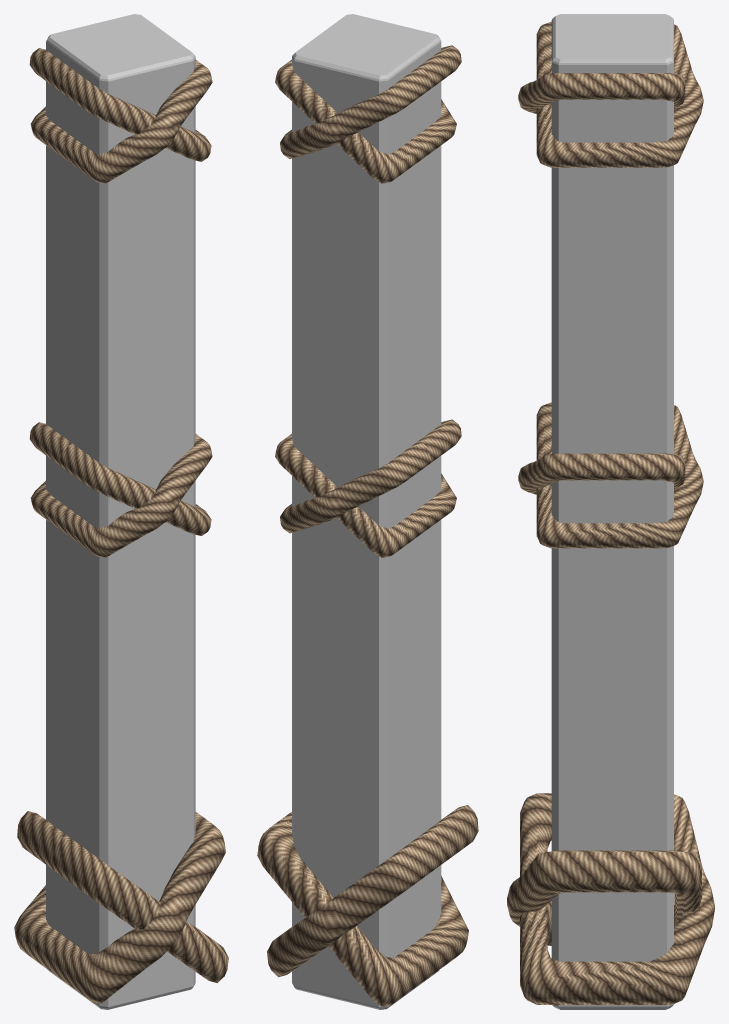
Rendered from Fence_07.fbx.
The picture shows the model from 3 angles, left to right: view 1: azimuth 30°, elevation 25°; view 2: azimuth 150°, elevation 25°; view 3: azimuth 270°, elevation 25°; orthographic projection.
Parts seen in each view (by area): view 1: Fence_07; view 2: Fence_07; view 3: Fence_07.
Boxes of the visible parts, bbox=[...] form: Fence_07: bbox=[14, 14, 228, 1009]; Fence_07: bbox=[257, 14, 478, 1009]; Fence_07: bbox=[507, 14, 714, 1009].
Size of the model in its own units: 27.38 by 169 by 33.46.
